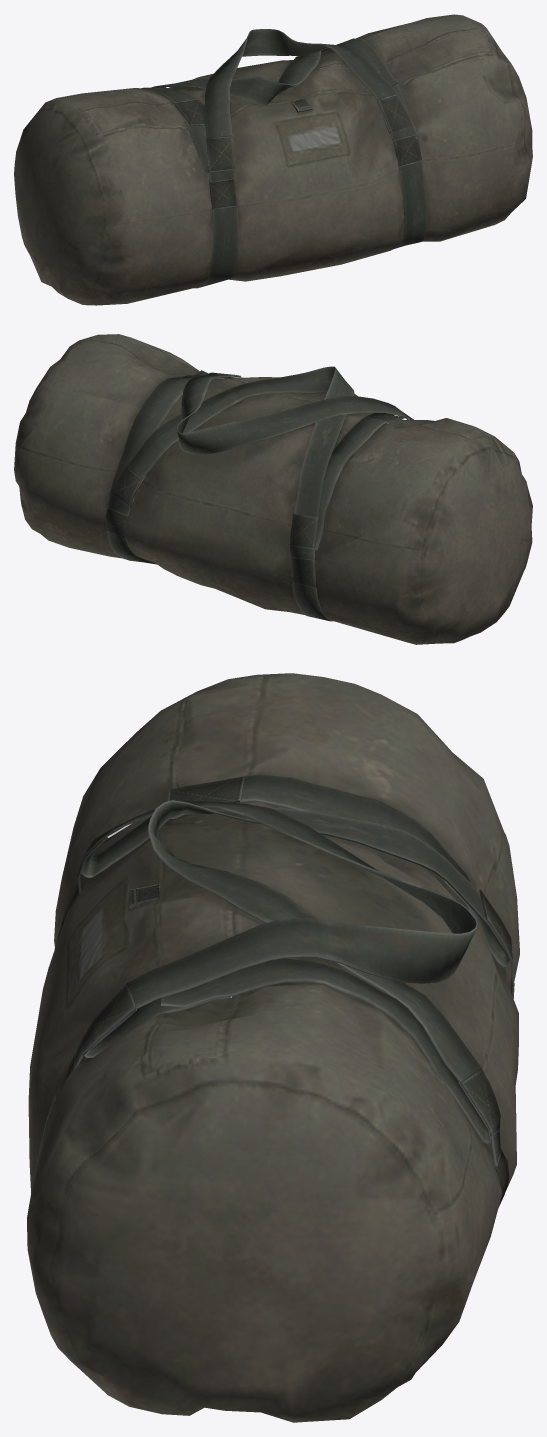
Rendered from MilitaryBag.fbx.
3 views of the same model, one above another, from view 1: azimuth 30°, elevation 25°; view 2: azimuth 150°, elevation 25°; view 3: azimuth 270°, elevation 25° (orthographic). The views are drawn at different scales.
Visible parts, largest first — view 1: SM_ECL_MilitaryBag_01.mo; view 2: SM_ECL_MilitaryBag_01.mo; view 3: SM_ECL_MilitaryBag_01.mo.
Part boxes in pixels (left/top/right/bottom): SM_ECL_MilitaryBag_01.mo: left=14, top=14, right=532, bottom=305; SM_ECL_MilitaryBag_01.mo: left=14, top=334, right=532, bottom=644; SM_ECL_MilitaryBag_01.mo: left=27, top=673, right=519, bottom=1422.
Size of the model in its own units: 66.95 by 27.01 by 31.14.
